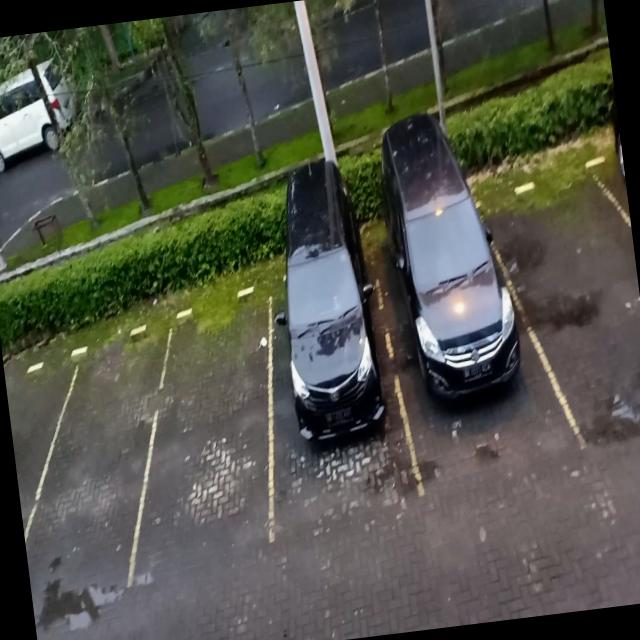car: (368, 158, 548, 484), (248, 209, 410, 536)
free: (126, 292, 291, 582), (499, 169, 640, 458), (24, 330, 161, 608)
